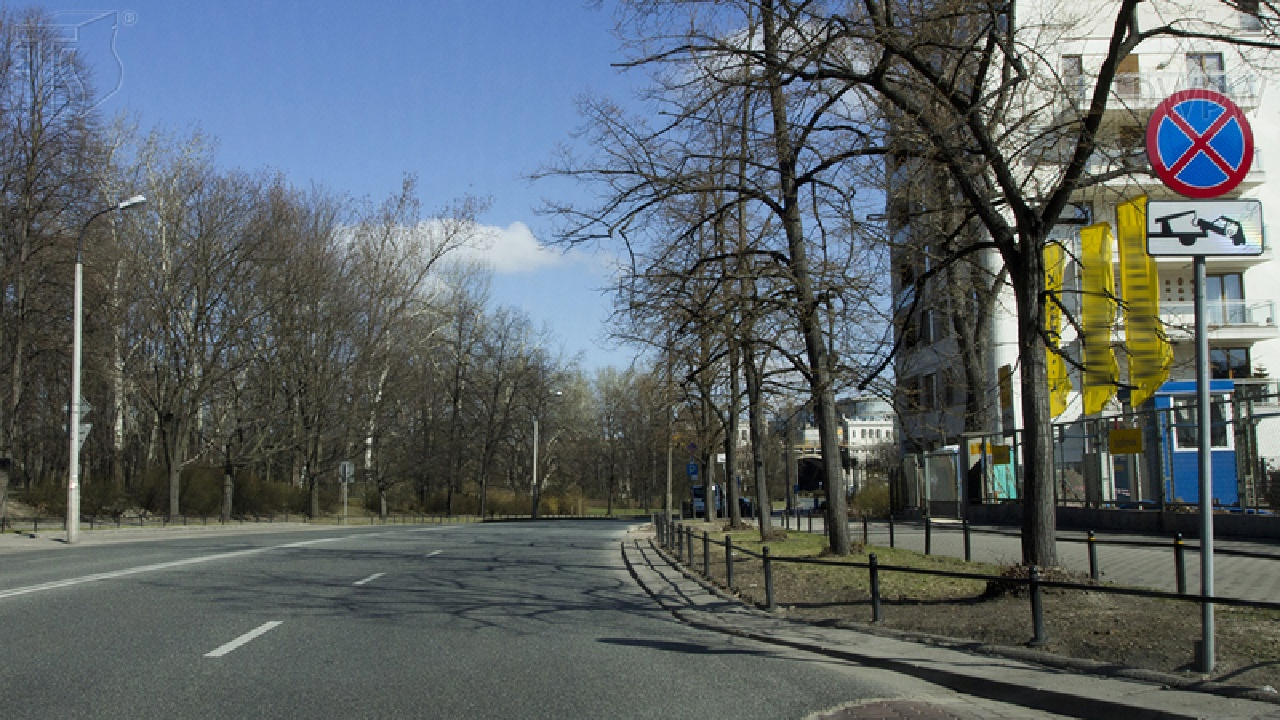B36: (1145, 90, 1253, 200)
